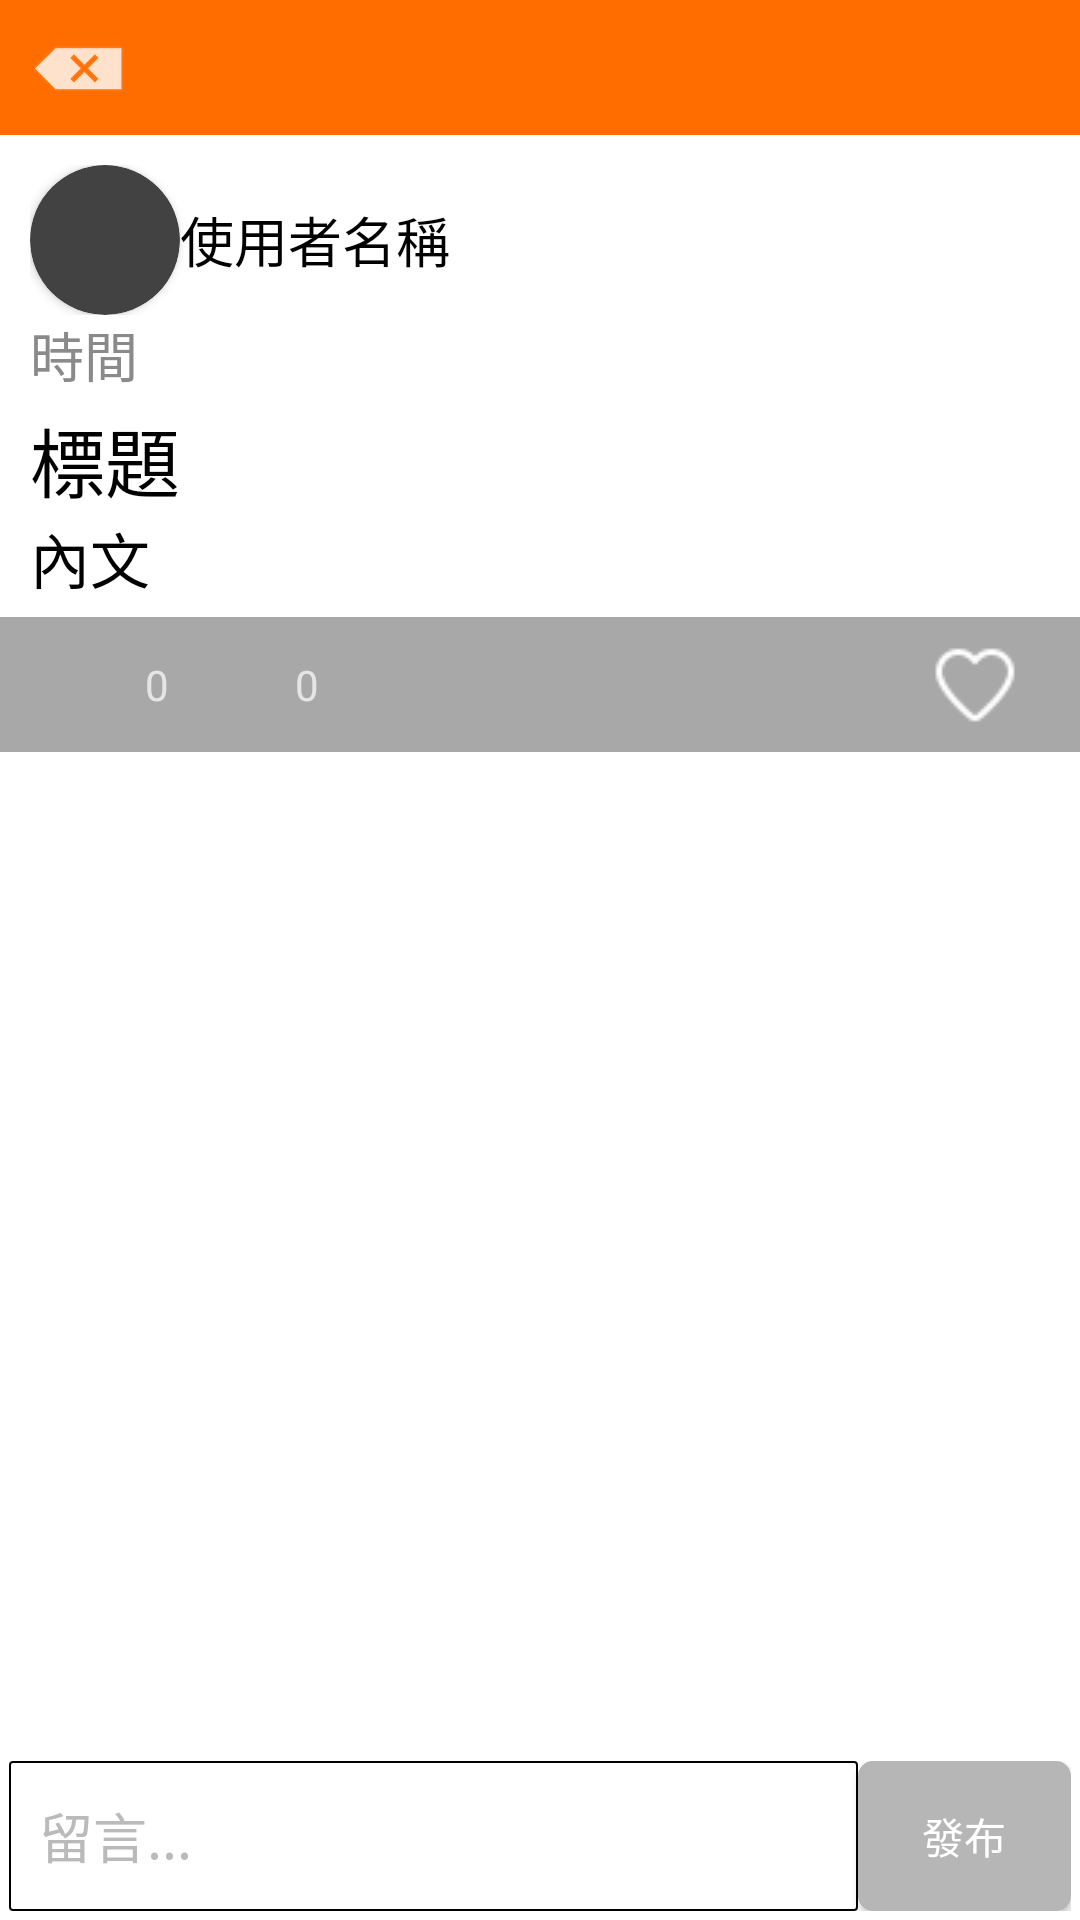

Point at icon controls on the screen. Image size 1080px x 1920px, points as point (x, y).
delete: point (78, 69)
heart stroke: point (975, 685)
